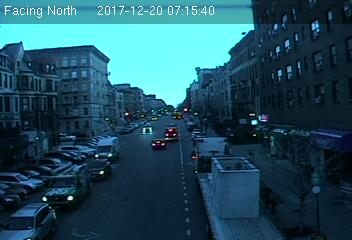car: (83, 159, 111, 179), (150, 138, 167, 150)
truck: (190, 136, 291, 237), (42, 165, 92, 205), (95, 137, 120, 163)
